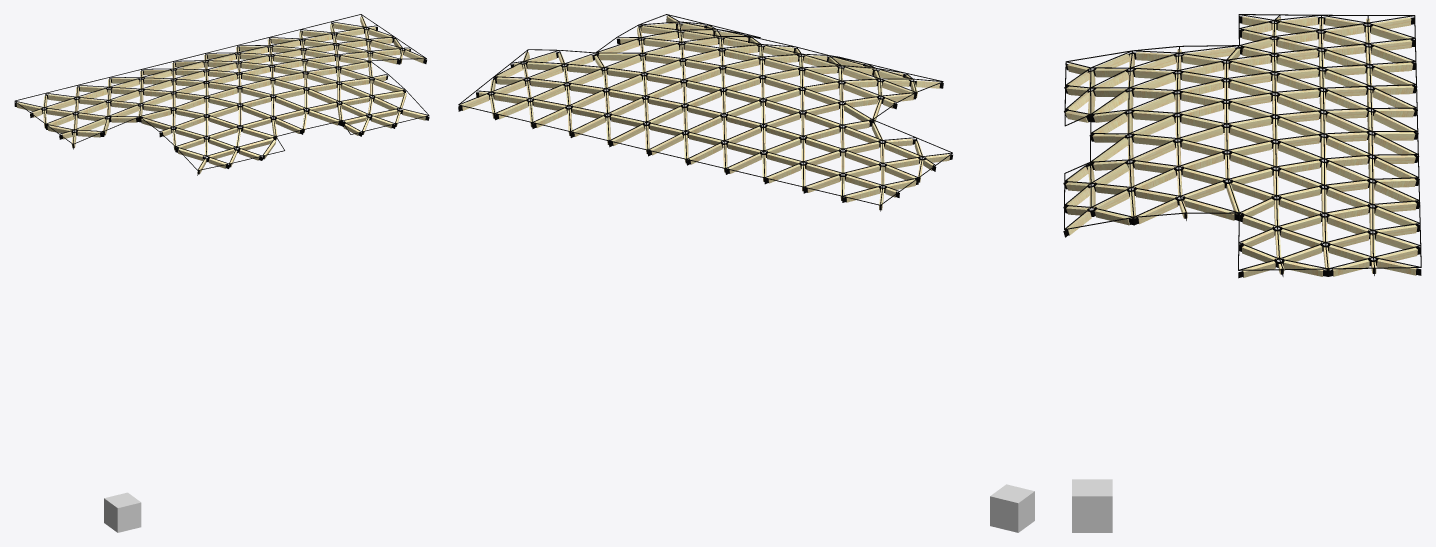
3 views of the same model, side by side, from view 1: azimuth 30°, elevation 25°; view 2: azimuth 150°, elevation 25°; view 3: azimuth 270°, elevation 25° (orthographic). The views are drawn at different scales.
Visible parts, largest first — view 1: Blend, Cube; view 2: Blend, Cube; view 3: Blend, Cube.
Boxes of the visible parts, x1,y1,x2,y2 form: Blend: (14, 14, 429, 175); Cube: (104, 492, 141, 532); Blend: (458, 14, 952, 211); Cube: (990, 484, 1034, 532); Blend: (1063, 14, 1421, 278); Cube: (1072, 479, 1112, 532).
Bounding box in the file's own units: 30.93 × 29.6 × 17.74.
Materials: 6 (2 with a texture image).
